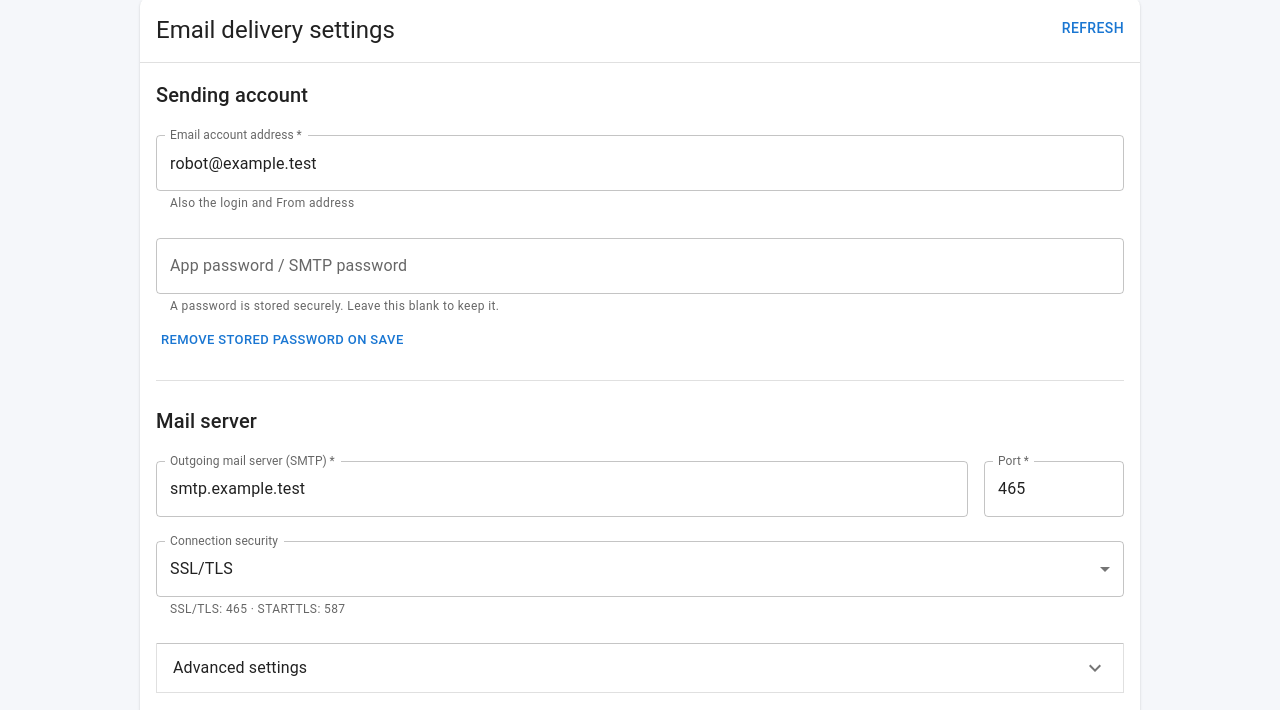
Test: SMTP setup interaction › requires saving a dirty draft before testing, and saving never sends email
Replace the text in the field labelled "Email account address *" with "new@example.test" at (640, 163), box [156,135,1124,191]
(page scrolled)
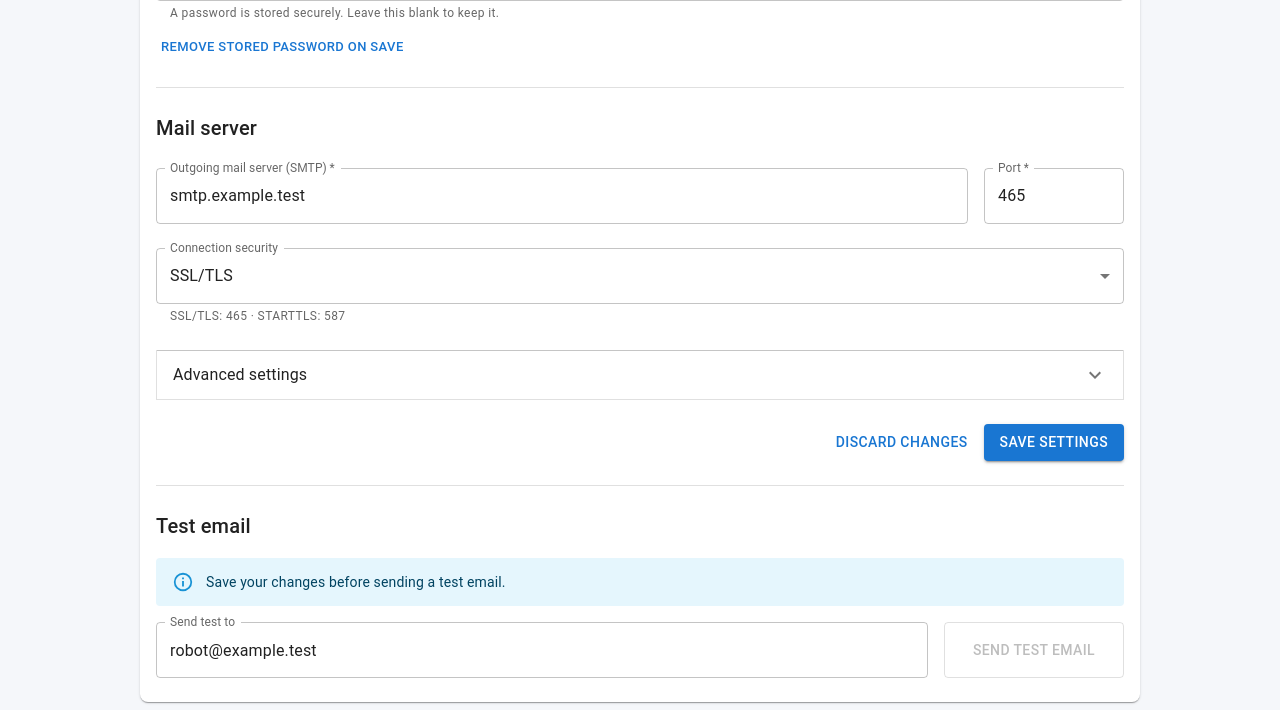
Expected: the button "Send test email" is disabled, [944,622,1124,678]
Expected: the text "Save your changes before sending a test email." is shown, [206,574,506,590]
Click the button "Save settings" at (1054, 443), box [984,424,1124,461]
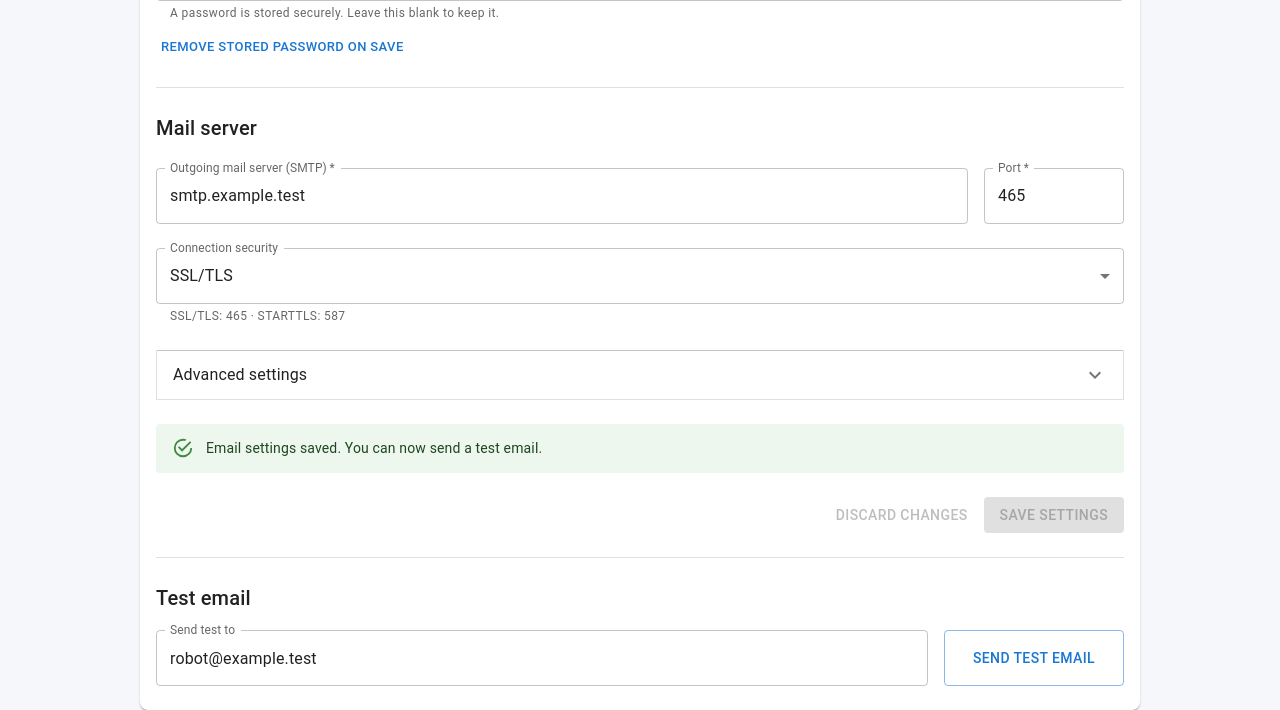
Expected: the button "Send test email" is enabled, [944,630,1124,686]
